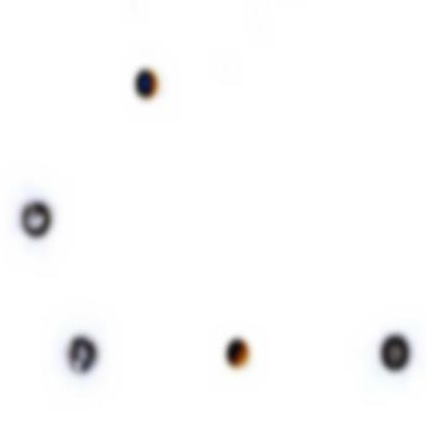cancer: (44, 310, 123, 396), (4, 184, 81, 259), (364, 312, 427, 383)
normal: (122, 53, 187, 117), (218, 328, 271, 381)
